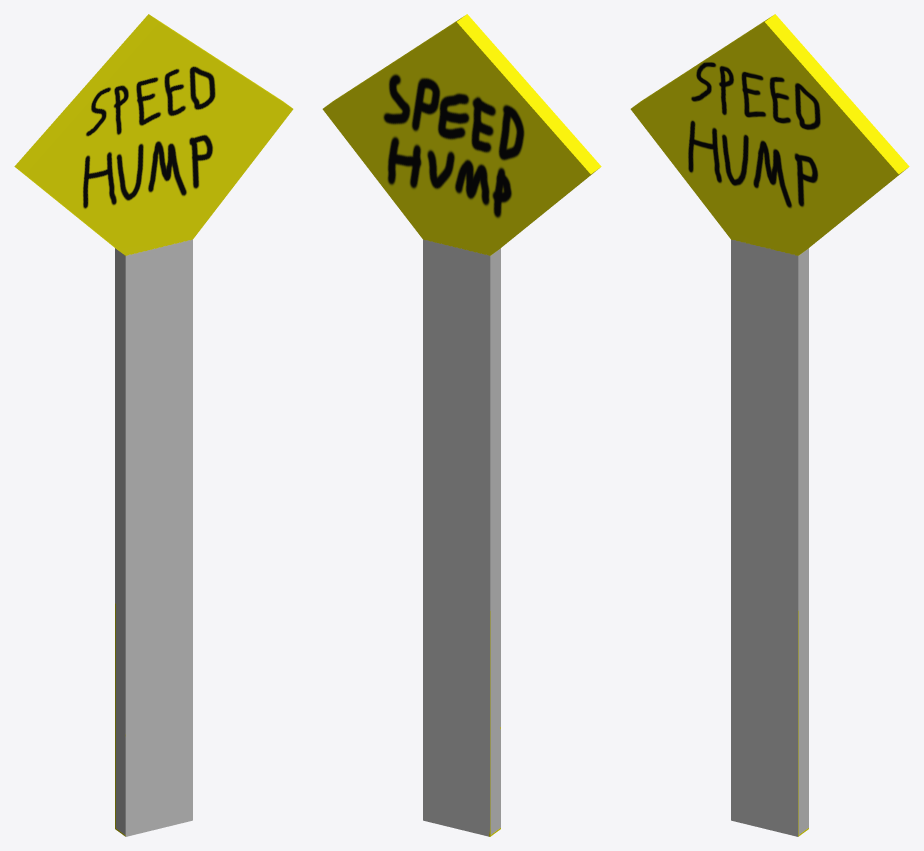
File: speed hump.fbx
3 views of the same model, side by side, from view 1: azimuth 30°, elevation 25°; view 2: azimuth 150°, elevation 25°; view 3: azimuth 330°, elevation 25° (orthographic).
Visible parts, largest first — view 1: Cube; view 2: Cube; view 3: Cube.
Boxes of the visible parts, bbox=[...] form: Cube: bbox=[14, 14, 293, 836]; Cube: bbox=[322, 14, 601, 836]; Cube: bbox=[630, 14, 909, 836].
Bounding box in the file's own units: 69.24 × 199 × 4.81.
